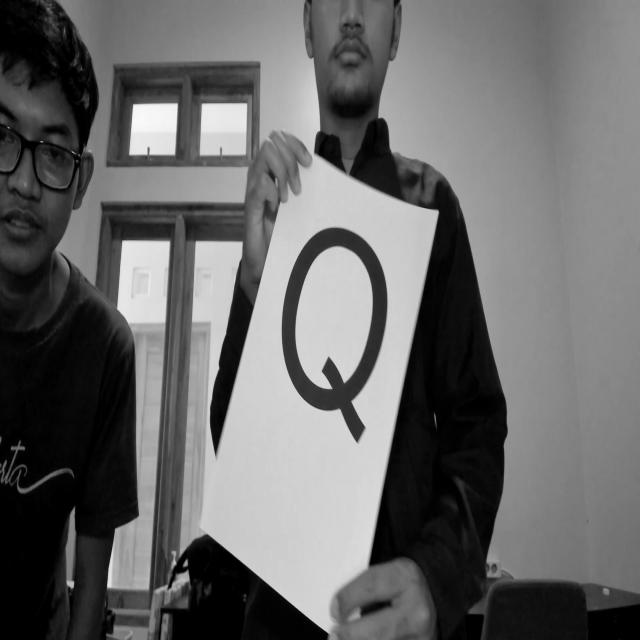q: (266, 202, 410, 466)
